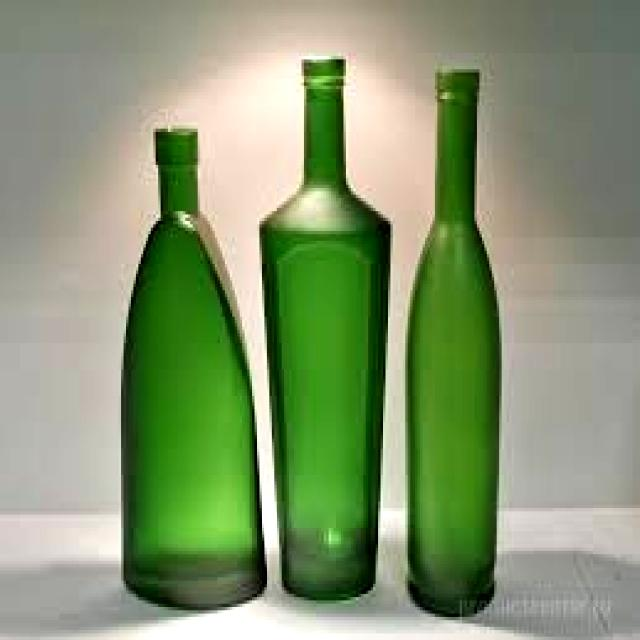Glass: (115, 117, 270, 612), (258, 51, 397, 598), (406, 64, 502, 618)
